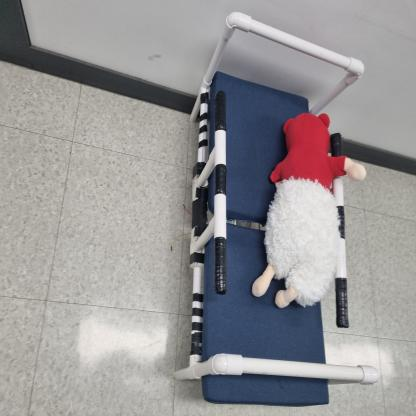yp: (190, 15, 377, 397)
